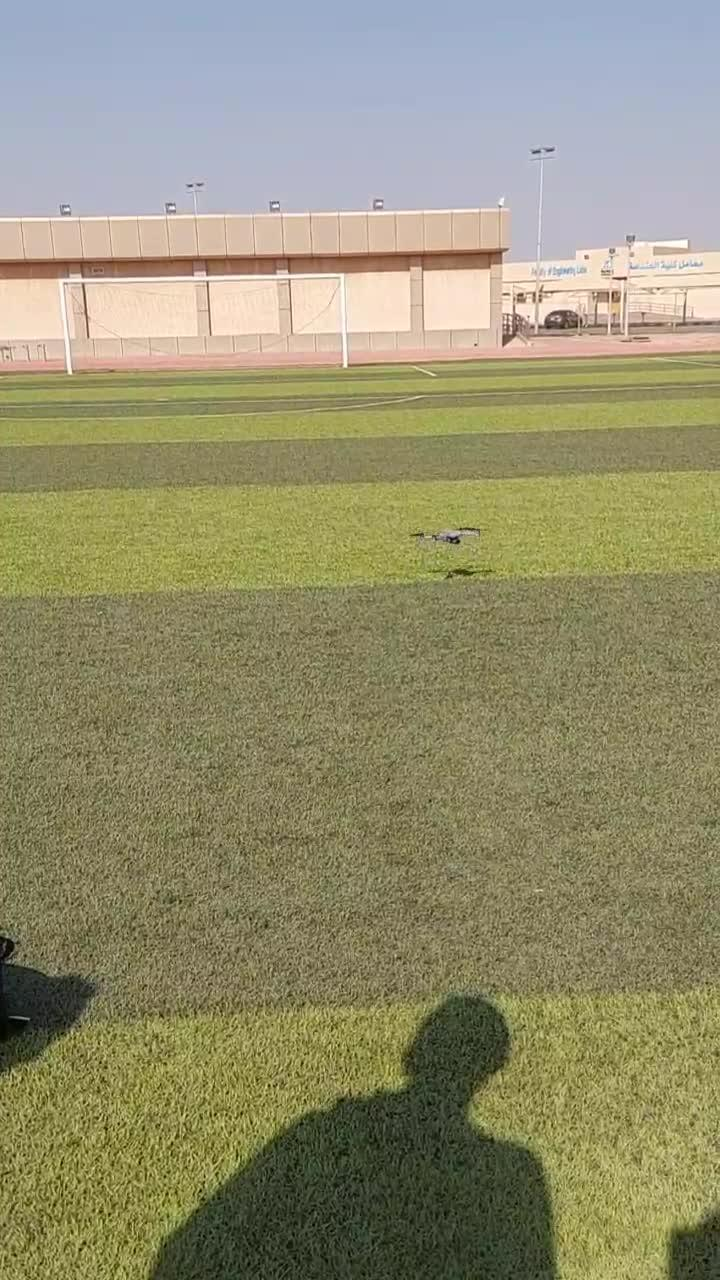drone: (398, 513, 485, 559)
